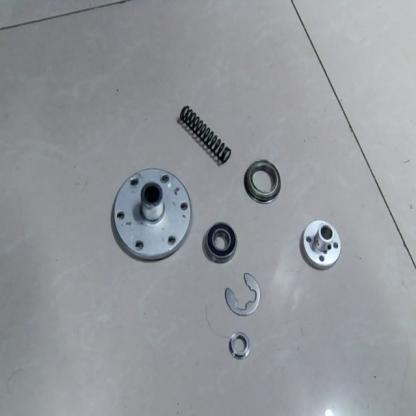FOD: (109, 168, 193, 263), (176, 104, 234, 165), (300, 217, 341, 270), (223, 269, 263, 319), (243, 155, 281, 206), (201, 222, 239, 268), (226, 328, 254, 362)
